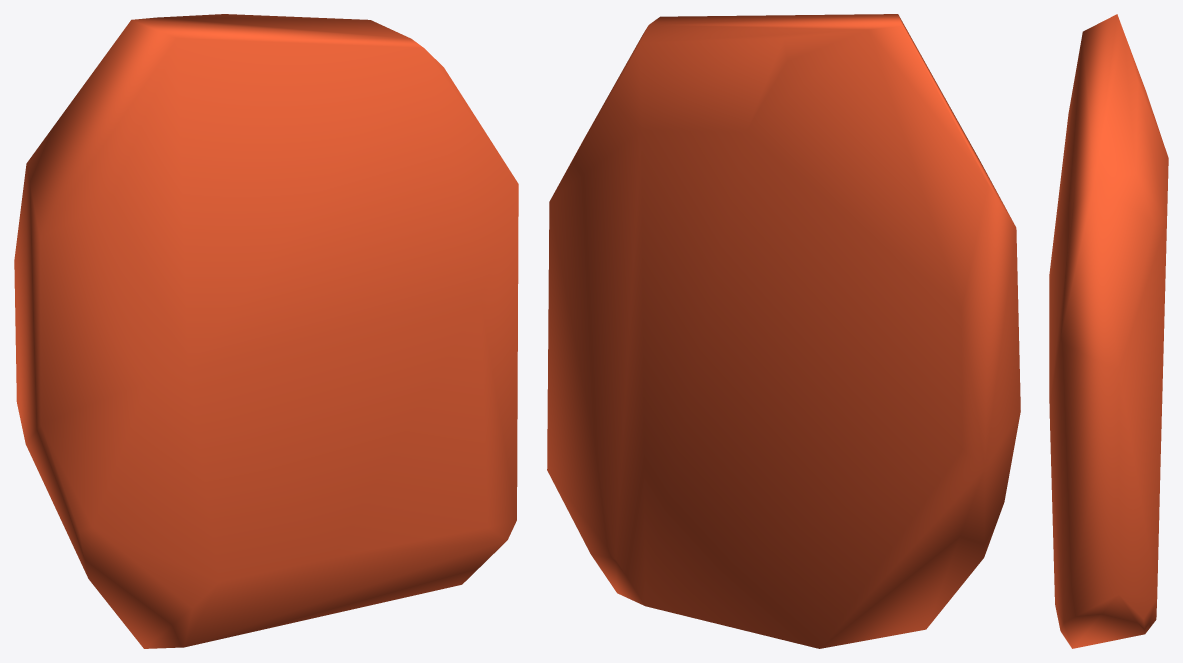
3 renders of one model, left to right at view 1: azimuth 30°, elevation 25°; view 2: azimuth 150°, elevation 25°; view 3: azimuth 270°, elevation 25°, orthographic. The views are drawn at different scales.
Parts seen in each view (by area): view 1: Roca36; view 2: Roca36; view 3: Roca36.
Part boxes in pixels (x1,y1,x2,y2): Roca36: (14,14,518,648); Roca36: (547,14,1020,648); Roca36: (1049,14,1168,648).
Bounding box in the file's own units: 133 × 172 × 36.28.
